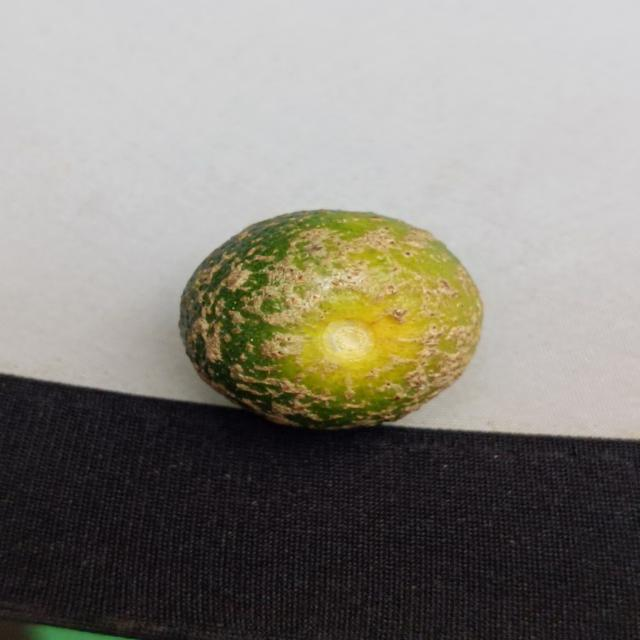scab: (191, 203, 487, 432)
